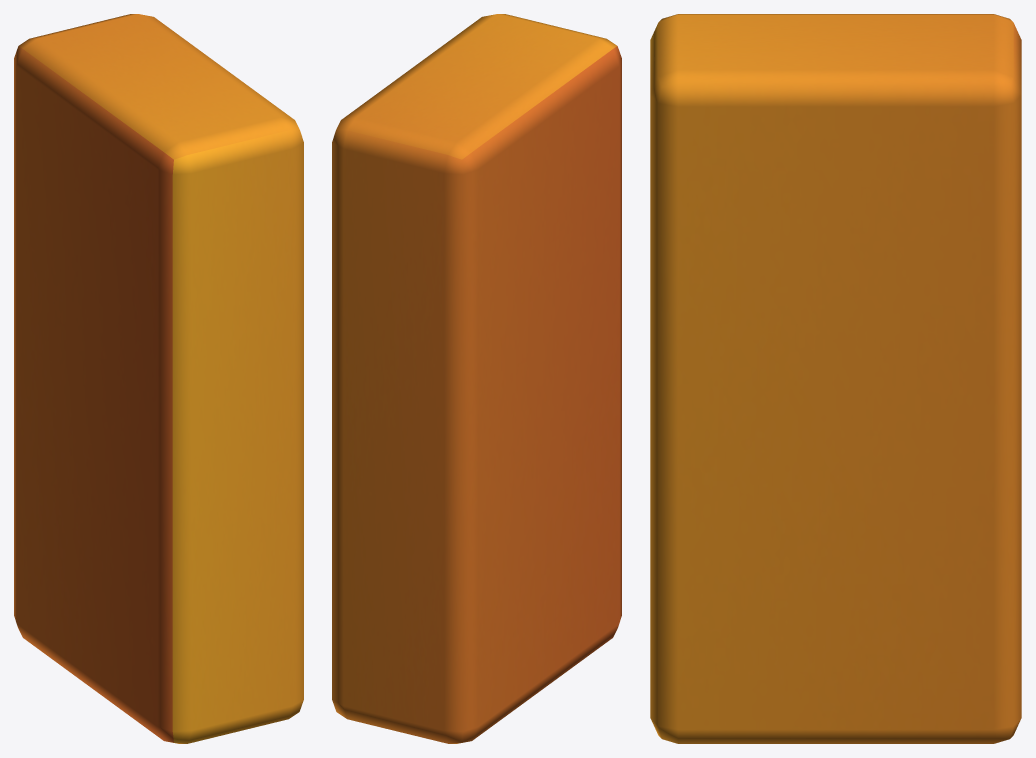
Rendered from BlockWallOrange.fbx.
3 renders of one model, left to right at view 1: azimuth 30°, elevation 25°; view 2: azimuth 150°, elevation 25°; view 3: azimuth 270°, elevation 25°, orthographic. The views are drawn at different scales.
Parts seen in each view (by area): view 1: Cube.003; view 2: Cube.003; view 3: Cube.003.
Boxes of the visible parts, left/top/right/bottom form: Cube.003: left=14, top=14, right=303, bottom=743; Cube.003: left=332, top=14, right=621, bottom=743; Cube.003: left=650, top=14, right=1021, bottom=743.
Size of the model in its own units: 100 by 400 by 200.
